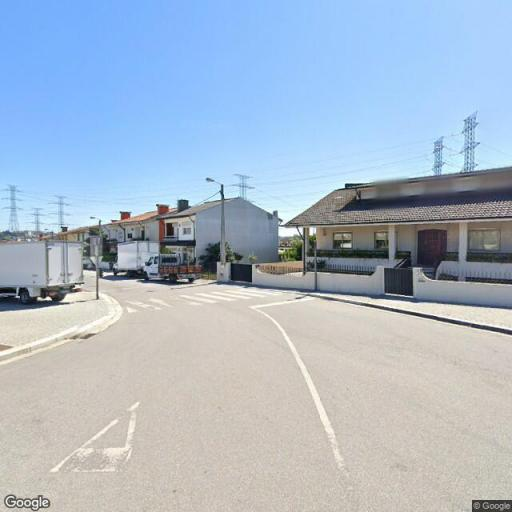ss_3: (458, 107, 481, 173), (1, 184, 26, 234), (50, 193, 75, 233), (430, 135, 450, 180), (234, 169, 256, 205), (28, 202, 50, 233)
